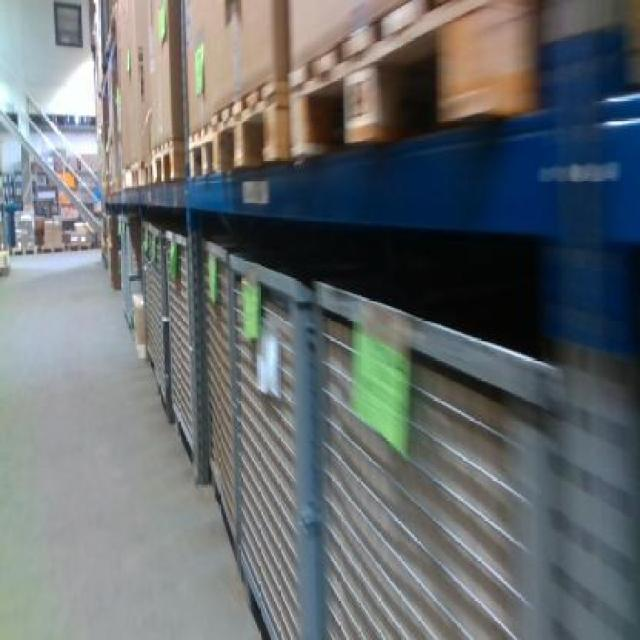ground: (0, 250, 266, 638)
pallet: (282, 0, 548, 164), (186, 76, 295, 184), (148, 138, 186, 186), (121, 158, 152, 194), (12, 247, 37, 257), (69, 243, 94, 252), (41, 246, 66, 255)
